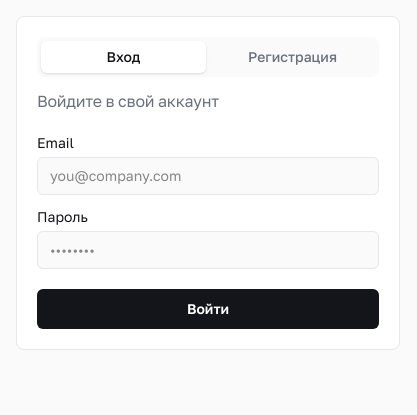
Scenario: LoginPage › shows the API error message when login fails
In the field with placeholder "you@company.com": (208,176) top-left (37, 157), bottom-right (379, 195), type "user@example.com"
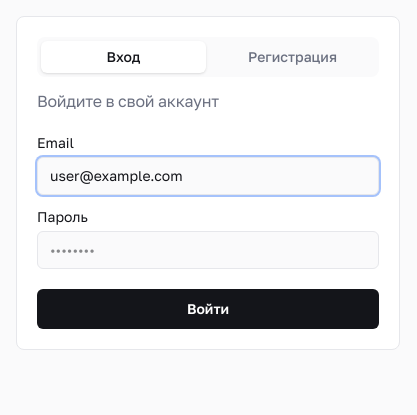
In the password field with placeholder "••••••••": (208,250) top-left (37, 231), bottom-right (379, 269), type "wrongpass"
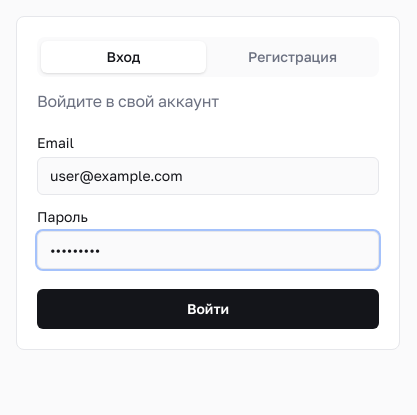
Click the button "Войти": (208,309) top-left (37, 289), bottom-right (379, 329)
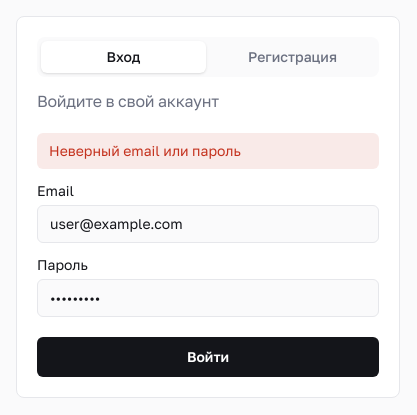
Now the text "Неверный email или пароль" is shown, box top-left (37, 133), bottom-right (379, 169)
